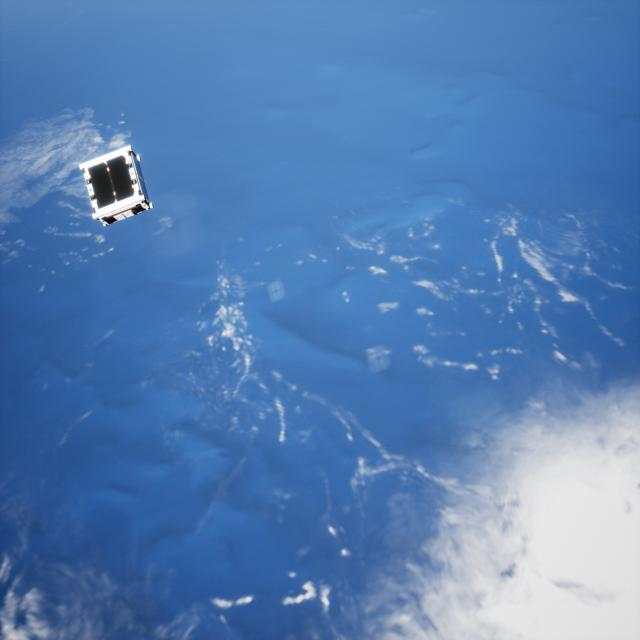satellite: (78, 141, 161, 228)
